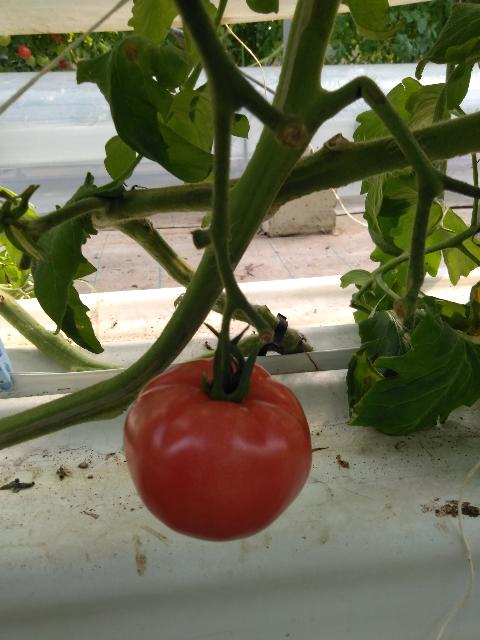b_fully_ripened: (123, 356, 313, 542)
